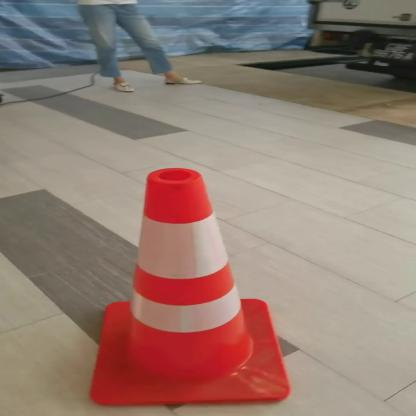cone: (70, 163, 302, 405)
